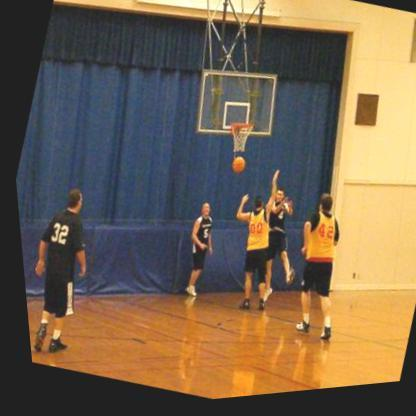basketball: (226, 159, 244, 180)
rim: (228, 122, 251, 137)
